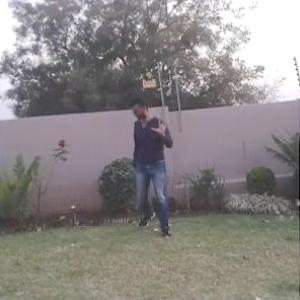follow_hand: (150, 108, 172, 137)
